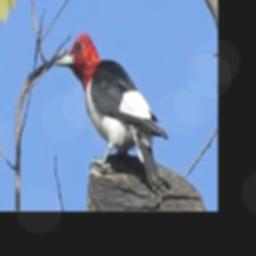Woodpecker: (54, 32, 167, 190)
